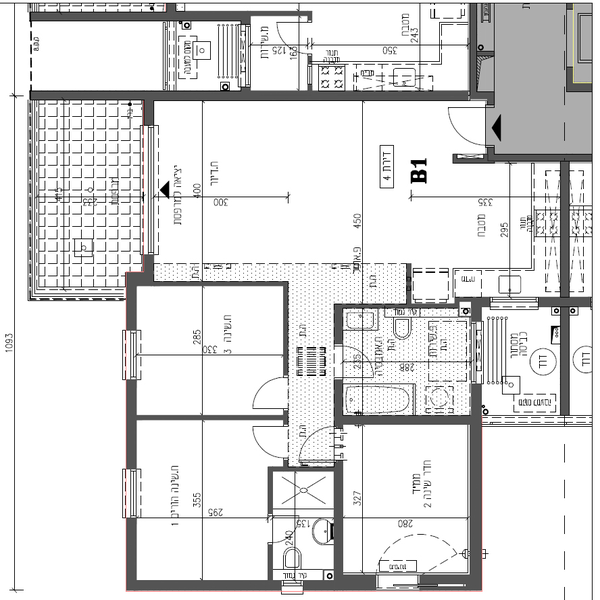door: (446, 102, 489, 152), (333, 341, 378, 383), (248, 374, 296, 411), (249, 424, 292, 461), (300, 423, 338, 464), (275, 21, 318, 54)
room: (143, 89, 492, 283), (334, 411, 487, 594), (123, 418, 277, 599), (122, 277, 292, 426), (405, 156, 572, 302), (336, 304, 482, 424), (471, 295, 571, 427)
wall: (28, 89, 494, 102), (559, 164, 573, 422), (470, 384, 485, 594), (25, 12, 252, 23), (137, 579, 281, 591), (333, 458, 345, 575), (462, 152, 589, 163), (341, 416, 471, 426), (137, 414, 283, 422), (341, 302, 461, 311), (126, 382, 138, 466), (539, 294, 595, 311), (124, 268, 137, 333), (307, 580, 377, 592), (284, 284, 292, 377), (126, 520, 136, 591), (334, 380, 347, 428), (138, 280, 287, 284), (335, 303, 343, 339), (405, 264, 410, 303)
window: (140, 128, 161, 257), (123, 468, 144, 514), (122, 333, 141, 379), (377, 571, 420, 590), (472, 319, 484, 382), (495, 296, 535, 312), (281, 577, 305, 595)
